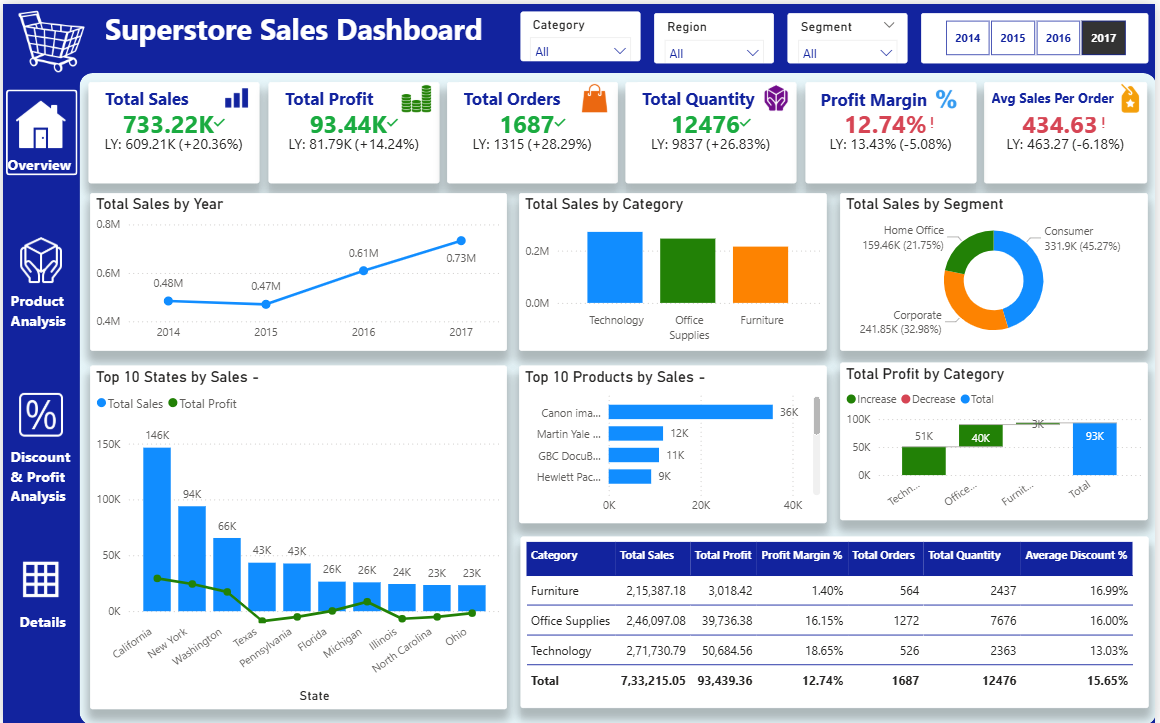

The dashboard page shown, as its layout file describes it:
{"tool":"powerbi","page":{"name":"Overview","canvas":[1280,800],"ordinal":0},"visuals":[{"type":"shape","box":[84.8,76,1196.5,724.6],"z":0},{"type":"slicer","fields":{"Values":["Date.Year"]},"box":[1019.6,9.5,252.9,55.7],"z":1000},{"type":"group","id":"g1","title":"Group 1","box":[95.7,86.6,190,112.9],"z":2000},{"type":"kpi","fields":{"Indicator":["key_measures.Total Sales"],"TrendLine":["Date.Year"],"Goal":["key_measures.LY Sales Display"]},"box":[95.7,86.6,190,112.9],"z":2000,"group":"g1"},{"type":"kpi","fields":{"TrendLine":["Date.Year"],"Indicator":["key_measures.Total Profit"],"Goal":["key_measures.Last Year Profit"]},"box":[294.4,86.6,190,112.9],"z":2000,"group":"g2"},{"type":"kpi","fields":{"TrendLine":["Date.Year"],"Indicator":["key_measures.Total Orders"],"Goal":["key_measures.LY Orders"]},"box":[493.3,86.6,190,112.9],"z":2000,"group":"g4"},{"type":"kpi","fields":{"TrendLine":["Date.Year"],"Indicator":["key_measures.Total Quantity"],"Goal":["key_measures.Last Year Qty"]},"box":[692.2,86.6,190,112.9],"z":2000,"group":"g5"},{"type":"kpi","fields":{"TrendLine":["Date.Year"],"Indicator":["key_measures.Profit Margin %"],"Goal":["key_measures.LY Profit Margin %"]},"box":[891,86.6,190,112.9],"z":2000,"group":"g6"},{"type":"kpi","fields":{"TrendLine":["Date.Year"],"Indicator":["key_measures.Average Sales Per Order"],"Goal":["key_measures.LY Avg sales per order"]},"box":[1090,87.1,181.4,112.9],"z":2000,"group":"g3"},{"type":"textbox","box":[108.4,86.6,133.6,35],"z":3000,"group":"g1"},{"type":"group","id":"g2","title":"Group 1","box":[294.4,86.6,190,112.9],"z":3000},{"type":"textbox","box":[307.1,86.6,133.6,35],"z":3000,"group":"g2"},{"type":"textbox","box":[506,86.6,133.6,35],"z":3000,"group":"g4"},{"type":"textbox","box":[704.9,86.6,137,35],"z":3000,"group":"g5"},{"type":"textbox","box":[903.5,87.9,144.3,34.4],"z":3000,"group":"g6"},{"type":"textbox","box":[1092.7,89,155.7,37.1],"z":3000,"group":"g3"},{"type":"group","id":"g3","title":"Group 1","box":[1090,87.1,181.4,112.9],"z":4000},{"type":"group","id":"g4","title":"Group 1","box":[493.3,86.6,190,112.9],"z":5000},{"type":"group","id":"g5","title":"Group 1","box":[692.2,86.6,190,112.9],"z":6000},{"type":"group","id":"g6","title":"Group 1","box":[891,86.6,190,112.9],"z":7000},{"type":"image","box":[242,88.9,34.6,32.1],"z":8000},{"type":"image","box":[639.5,88.9,34.6,32.1],"z":9000},{"type":"image","box":[842,88.9,34.6,32.1],"z":10000},{"type":"image","box":[1030.2,90.1,35.4,32.3],"z":11000},{"type":"image","box":[1235.7,88.6,35.7,32.9],"z":12000},{"type":"lineChart","fields":{"Y":["key_measures.Total Sales"],"Category":["Date.Year","Date.Qtr","Date.Month Name"]},"box":[96.5,210.5,463.2,175],"z":13000},{"type":"clusteredColumnChart","fields":{"Category":["Superstore.Category"],"Y":["key_measures.Total Sales"]},"box":[573.7,210.5,342.1,175.4],"z":14000},{"type":"image","box":[440.8,88.7,35.2,32.4],"z":15000},{"type":"donutChart","fields":{"Y":["key_measures.Total Sales"],"Category":["Superstore.Segment"]},"box":[929.8,210.5,342.1,175.4],"z":16000},{"type":"lineClusteredColumnComboChart","fields":{"Category":["Superstore.State"],"Y":["key_measures.Total Sales"],"Y2":["key_measures.Total Profit"]},"box":[97.2,401.2,463,381.7],"z":17000},{"type":"clusteredBarChart","fields":{"Y":["key_measures.Total Sales"],"Category":["Superstore.Product Name"]},"box":[573.7,401.8,342.1,175.4],"z":18000},{"type":"waterfallChart","fields":{"Y":["key_measures.Total Profit"],"Category":["Superstore.Category"]},"box":[929.8,398.2,342.1,175.4],"z":19000},{"type":"tableEx","fields":{"Values":["Superstore.Category","key_measures.Total Sales","key_measures.Total Profit","key_measures.Profit Margin %","key_measures.Total Orders","key_measures.Total Quantity","key_measures.Average Discount %"]},"box":[574.4,592.1,698.1,190.9],"z":20000},{"type":"textbox","box":[107.8,0,433.3,55.8],"z":21000},{"type":"slicer","fields":{"Values":["Superstore.Region"]},"box":[722.7,9.5,133.6,55.7],"z":22000},{"type":"slicer","fields":{"Values":["Superstore.Segment"]},"box":[871.1,9.5,133.6,55.7],"z":23000},{"type":"image","box":[0,0,108.6,80],"z":24000},{"type":"image","box":[12.7,105,57.3,60.4],"z":25000},{"type":"textbox","box":[0,162.2,85.9,36.6],"z":26000},{"type":"shape","box":[3.2,95.4,79.5,95.4],"z":27000},{"type":"slicer","fields":{"Values":["Superstore.Category"]},"box":[574.2,9,133.6,55],"z":28000},{"type":"image","box":[13.5,254.2,57.8,59.7],"z":29000},{"type":"textbox","box":[3.2,313.4,82.7,57.3],"z":30000},{"type":"card","fields":{"Values":["key_measures.LY_Message"]},"box":[177.2,48.1,300.4,27],"z":31000},{"type":"image","box":[13.5,426.9,57.7,59.6],"z":32000},{"type":"textbox","box":[3.8,486.5,82.7,90.4],"z":33000},{"type":"image","box":[12.7,610.8,57.3,58.9],"z":34000},{"type":"textbox","box":[12.7,669.6,65,36.6],"z":35000}]}

Visuals, with their boxes in screenshot pixels (x1, y1, x2, y2), scaled from the page's 1280x800 canvas onto the 1160x723 screenshot:
shape: bbox(77, 69, 1159, 722)
slicer - Date.Year: bbox(924, 9, 1153, 59)
"Group 1" group: bbox(87, 78, 259, 180)
kpi - key_measures.Total Sales x Date.Year: bbox(87, 78, 259, 180)
kpi - Date.Year x key_measures.Total Profit: bbox(267, 78, 439, 180)
kpi - Date.Year x key_measures.Total Orders: bbox(447, 78, 619, 180)
kpi - Date.Year x key_measures.Total Quantity: bbox(627, 78, 799, 180)
kpi - Date.Year x key_measures.Profit Margin %: bbox(807, 78, 980, 180)
kpi - Date.Year x key_measures.Average Sales Per Order: bbox(988, 79, 1152, 181)
textbox: bbox(98, 78, 219, 110)
"Group 1" group: bbox(267, 78, 439, 180)
textbox: bbox(278, 78, 399, 110)
textbox: bbox(459, 78, 580, 110)
textbox: bbox(639, 78, 763, 110)
textbox: bbox(819, 79, 950, 111)
textbox: bbox(990, 80, 1131, 114)
"Group 1" group: bbox(988, 79, 1152, 181)
"Group 1" group: bbox(447, 78, 619, 180)
"Group 1" group: bbox(627, 78, 799, 180)
"Group 1" group: bbox(807, 78, 980, 180)
image: bbox(219, 80, 251, 109)
image: bbox(580, 80, 611, 109)
image: bbox(763, 80, 794, 109)
image: bbox(934, 81, 966, 111)
image: bbox(1120, 80, 1152, 110)
lineChart - key_measures.Total Sales x Date.Year: bbox(87, 190, 507, 348)
clusteredColumnChart - Superstore.Category x key_measures.Total Sales: bbox(520, 190, 830, 349)
image: bbox(399, 80, 431, 109)
donutChart - key_measures.Total Sales x Superstore.Segment: bbox(843, 190, 1153, 349)
lineClusteredColumnComboChart - Superstore.State x key_measures.Total Sales: bbox(88, 363, 508, 708)
clusteredBarChart - key_measures.Total Sales x Superstore.Product Name: bbox(520, 363, 830, 522)
waterfallChart - key_measures.Total Profit x Superstore.Category: bbox(843, 360, 1153, 518)
tableEx - Superstore.Category x key_measures.Total Sales: bbox(521, 535, 1153, 708)
textbox: bbox(98, 0, 490, 50)
slicer - Superstore.Region: bbox(655, 9, 776, 59)
slicer - Superstore.Segment: bbox(789, 9, 911, 59)
image: bbox(0, 0, 98, 72)
image: bbox(12, 95, 63, 149)
textbox: bbox(0, 147, 78, 180)
shape: bbox(3, 86, 75, 172)
slicer - Superstore.Category: bbox(520, 8, 641, 58)
image: bbox(12, 230, 65, 284)
textbox: bbox(3, 283, 78, 335)
card - key_measures.LY_Message: bbox(161, 43, 433, 68)
image: bbox(12, 386, 65, 440)
textbox: bbox(3, 440, 78, 521)
image: bbox(12, 552, 63, 605)
textbox: bbox(12, 605, 70, 638)
